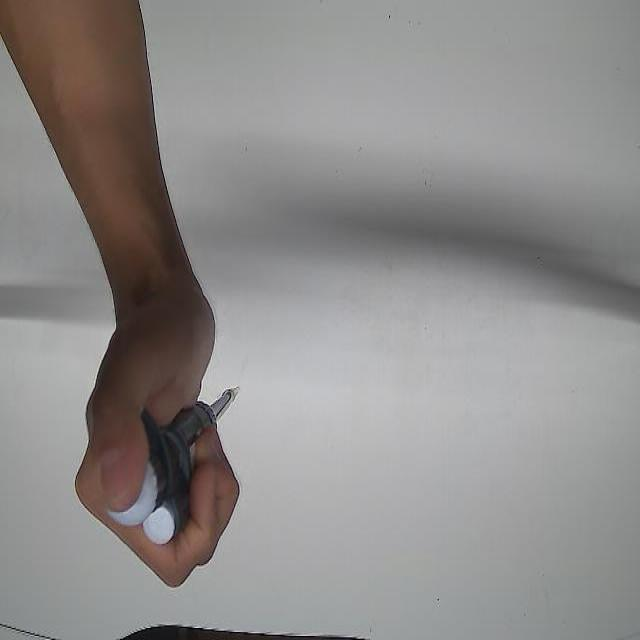Single Channel Pipettor: (99, 386, 235, 546)
